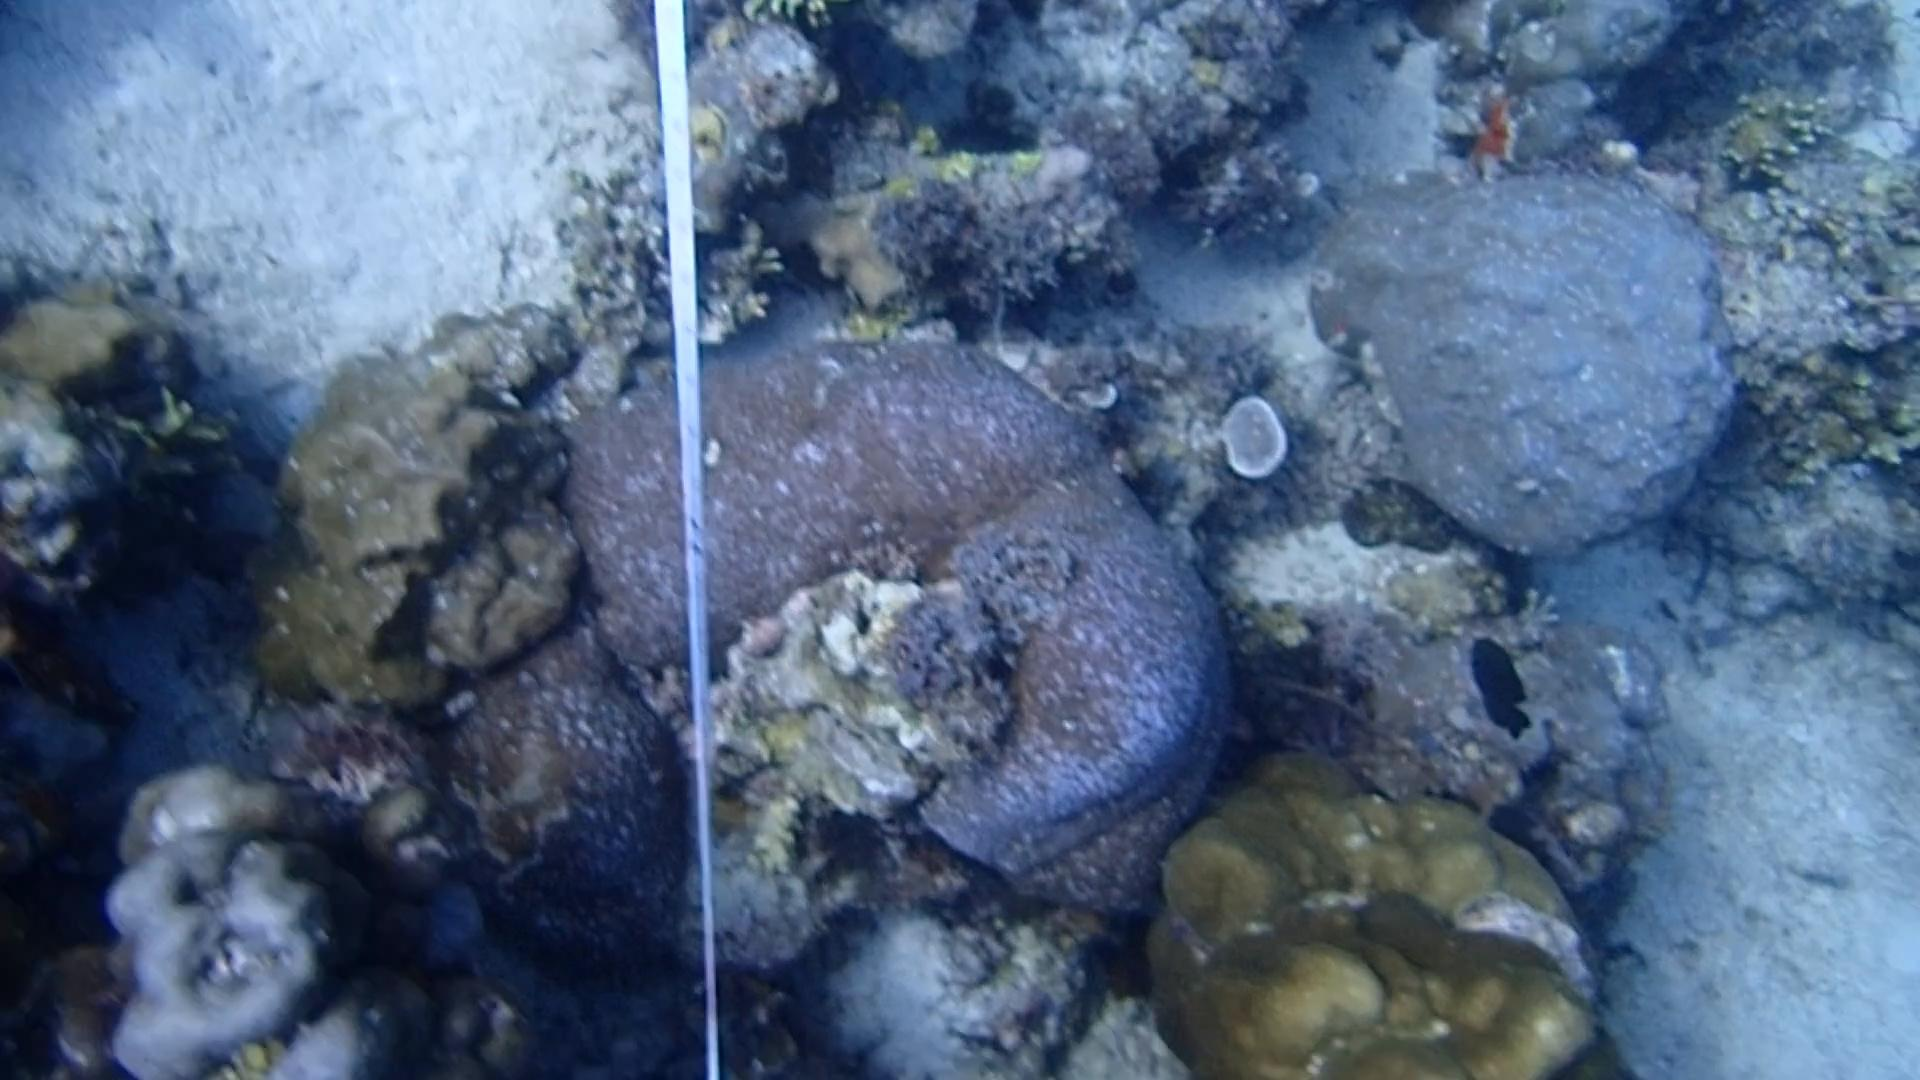Dark Fish: (1464, 629, 1543, 746)
